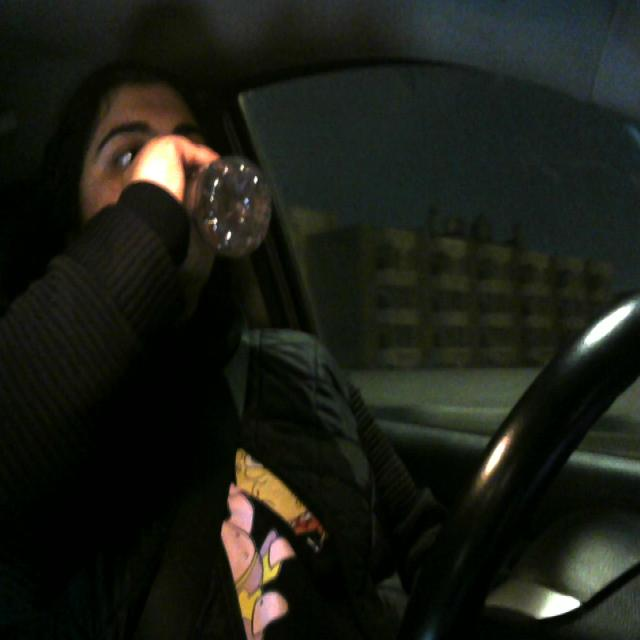drinking: (165, 136, 278, 280)
